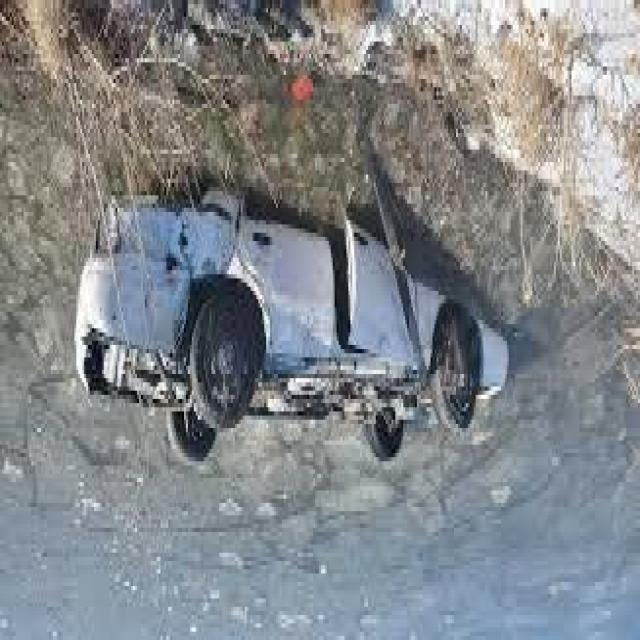severe: (74, 168, 509, 476)
